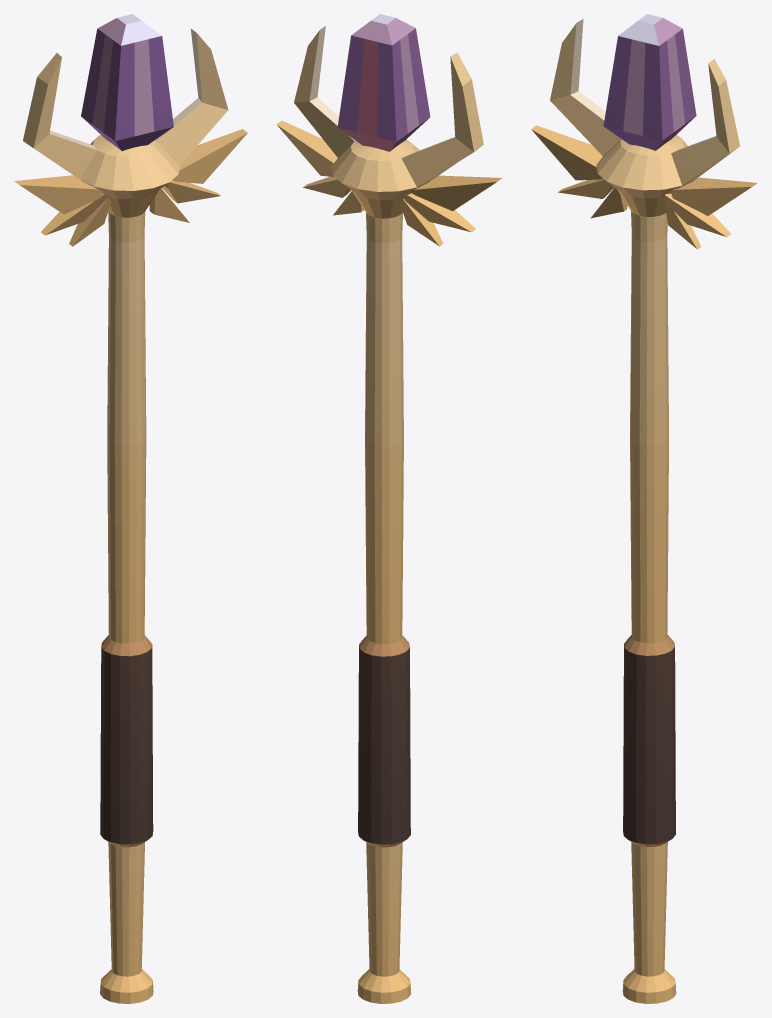
Rendered from staff 1.fbx.
3 views of the same model, side by side, from view 1: azimuth 30°, elevation 25°; view 2: azimuth 150°, elevation 25°; view 3: azimuth 330°, elevation 25° (orthographic).
Visible parts, largest first — view 1: MagicStaff; view 2: MagicStaff; view 3: MagicStaff.
Part boxes in pixels (x1,y1,x2,y2): MagicStaff: (14, 14, 247, 1003); MagicStaff: (276, 14, 501, 1003); MagicStaff: (531, 14, 757, 1003).
Bounding box in the file's own units: 51.83 × 214 × 21.4.
